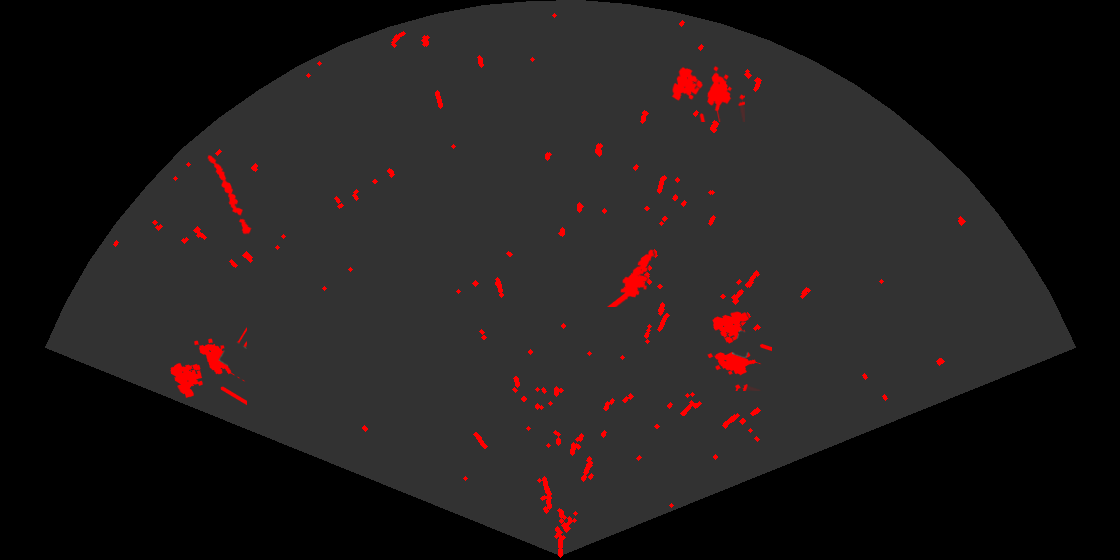cage: (169, 326, 247, 407), (706, 310, 772, 391), (670, 64, 745, 122)
chain: (206, 153, 253, 237)
frogman: (607, 248, 656, 307)
